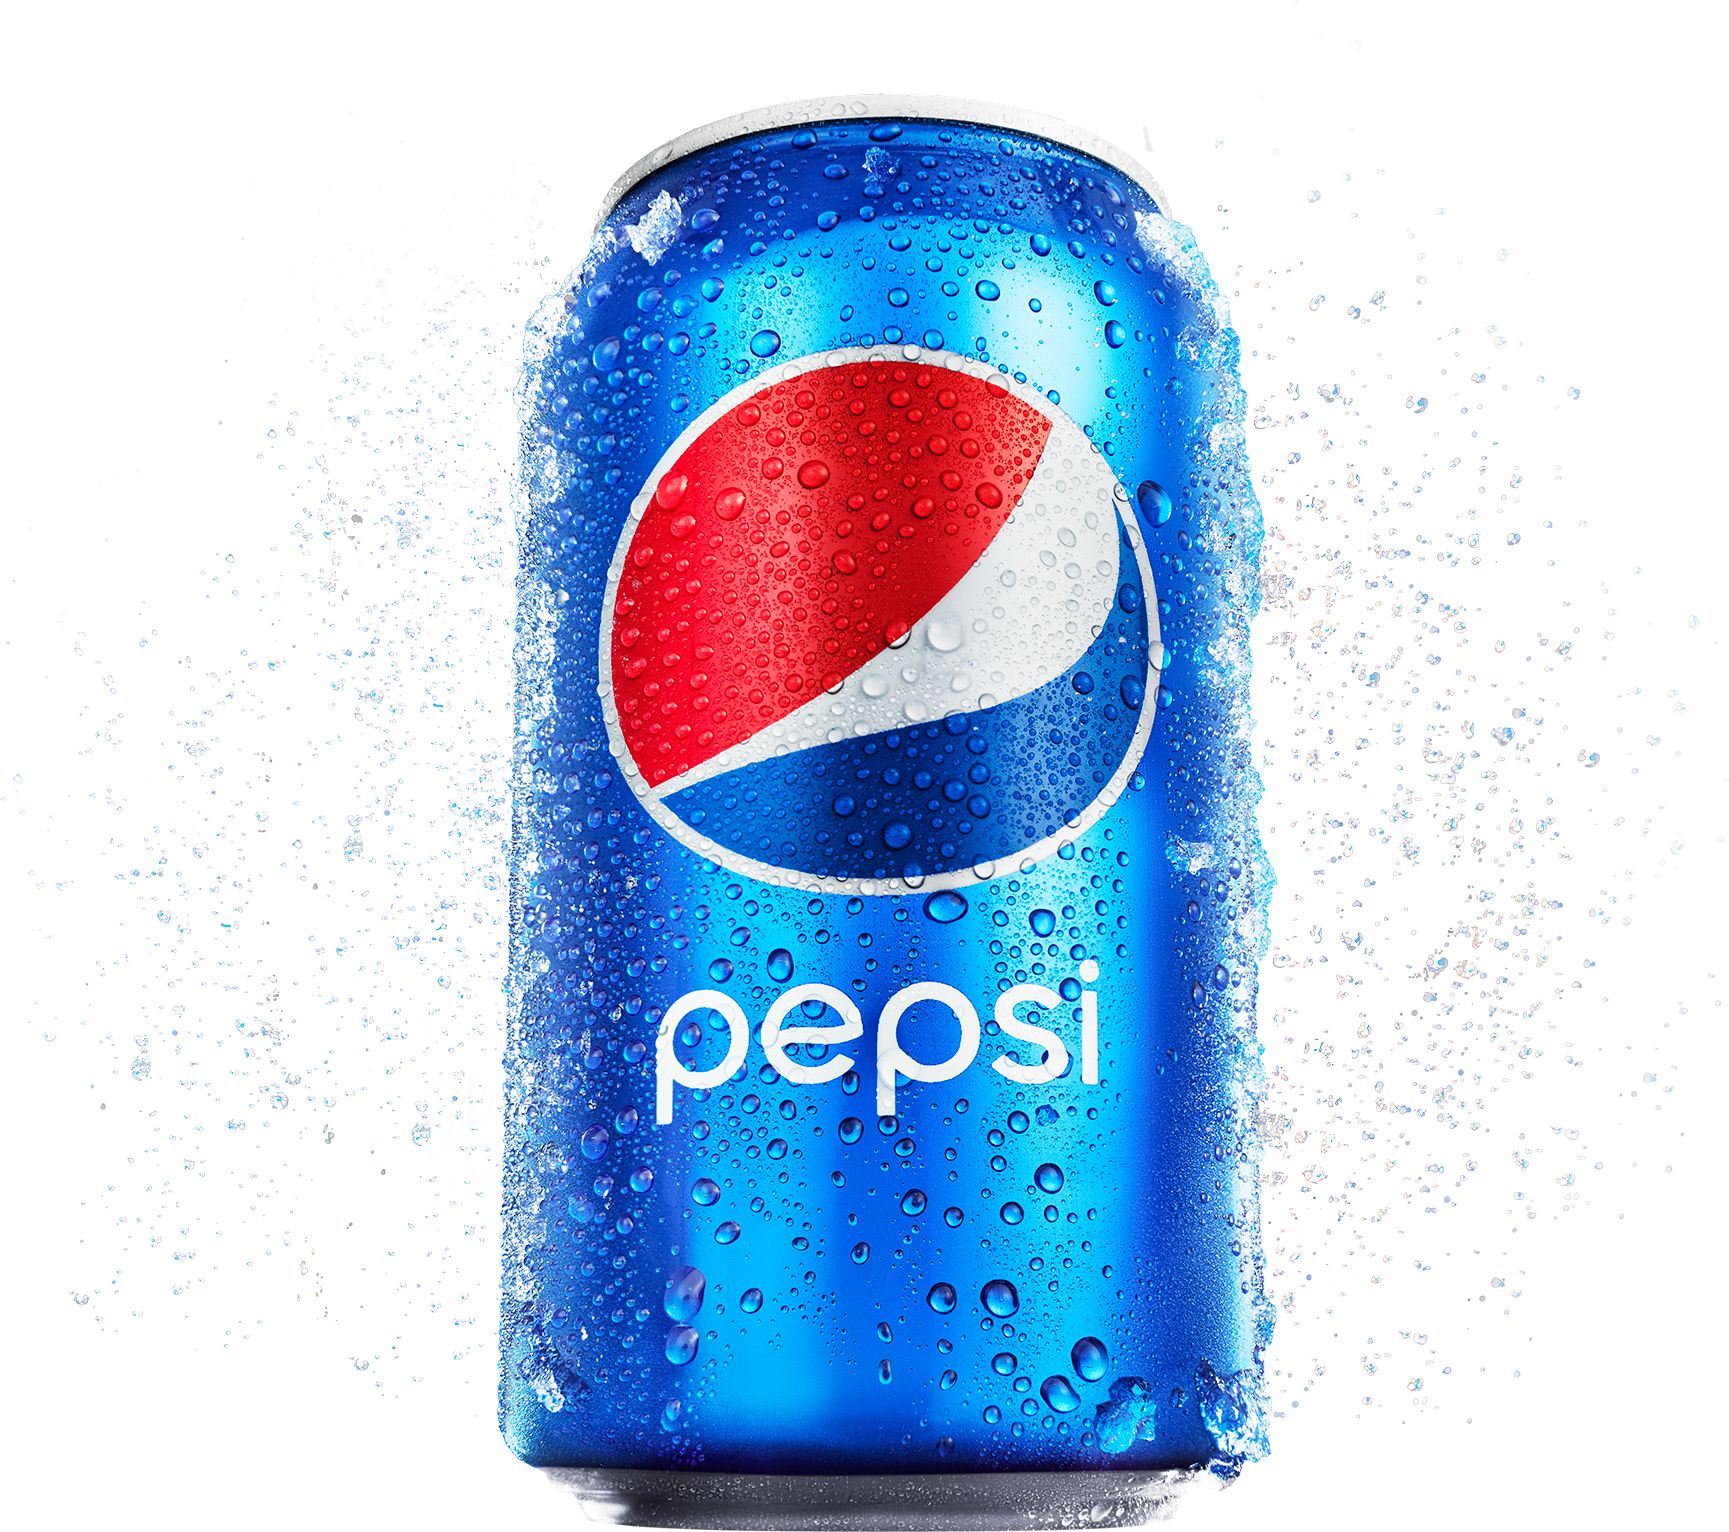pepsi: (595, 346, 1167, 893), (587, 379, 1167, 893), (595, 379, 1167, 893)
